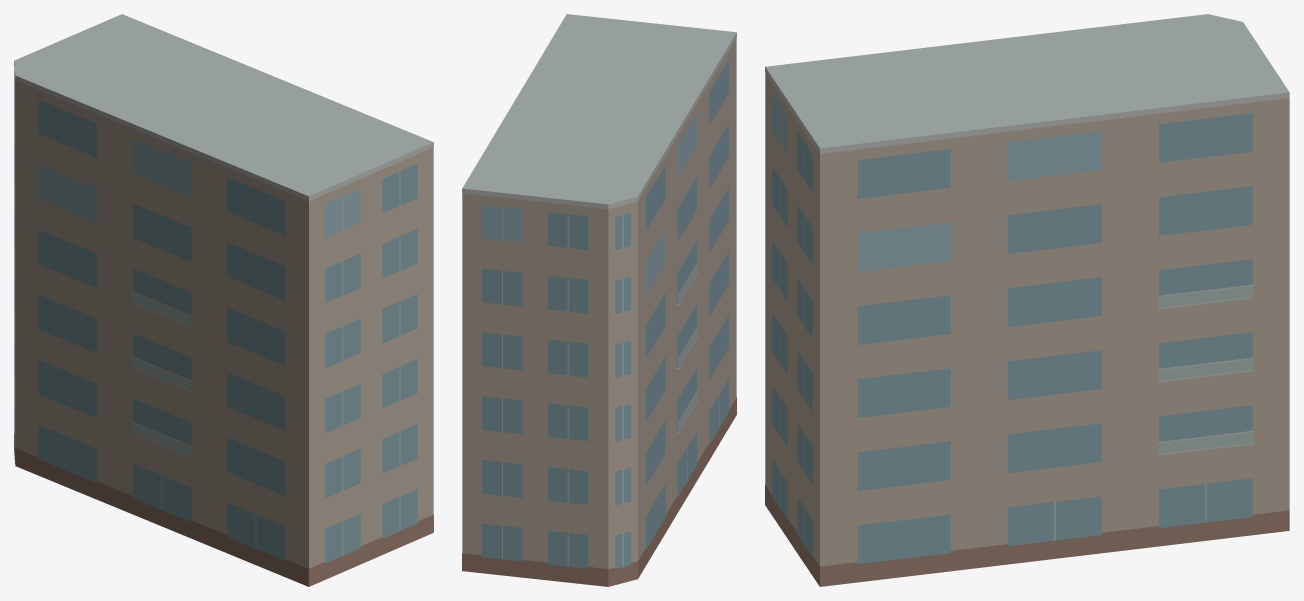
The model's file is survey-upis-33010737.glb.
The picture shows the model from 3 angles, left to right: view 1: azimuth 30°, elevation 25°; view 2: azimuth 150°, elevation 25°; view 3: azimuth 270°, elevation 25°; orthographic projection. The views are drawn at different scales.
Parts seen in each view (by area): view 1: survey-upis-33010737.tmp; view 2: survey-upis-33010737.tmp; view 3: survey-upis-33010737.tmp.
Boxes of the visible parts, box(x1,y1,x2,y2) form: survey-upis-33010737.tmp: box(14, 14, 433, 586); survey-upis-33010737.tmp: box(462, 14, 736, 586); survey-upis-33010737.tmp: box(765, 14, 1289, 586).
Size of the model in its own units: 12.71 by 19.3 by 20.94.
